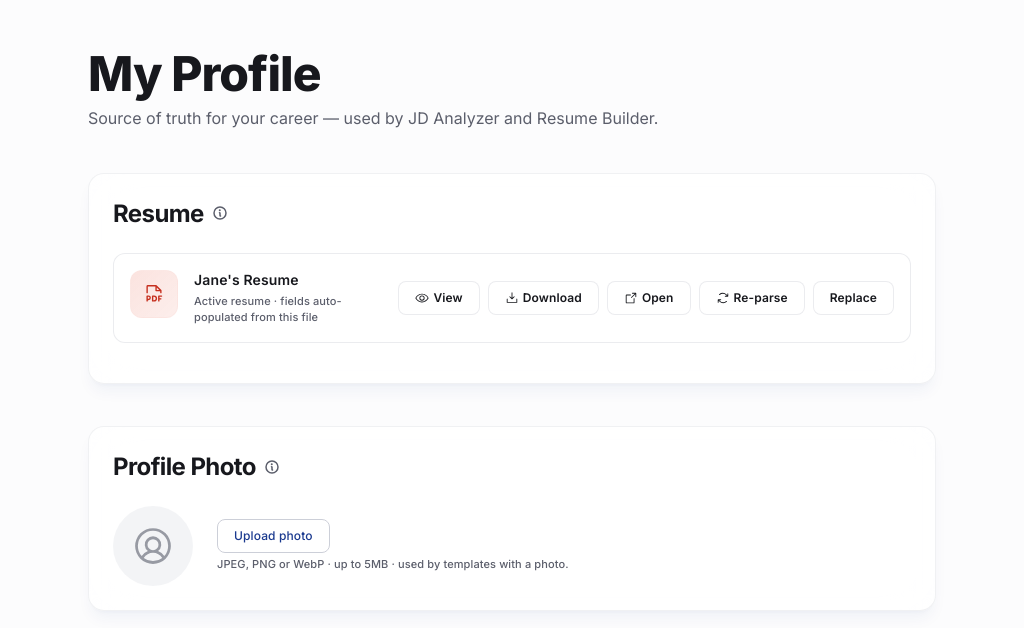
Test: My Profile — resume re-parse & unsaved-changes guard › offers the résumé's different contact details instead of applying them, never the email
Click the button "Re-parse". click: (752, 298)
box: [698,281,805,315]
(page scrolled)
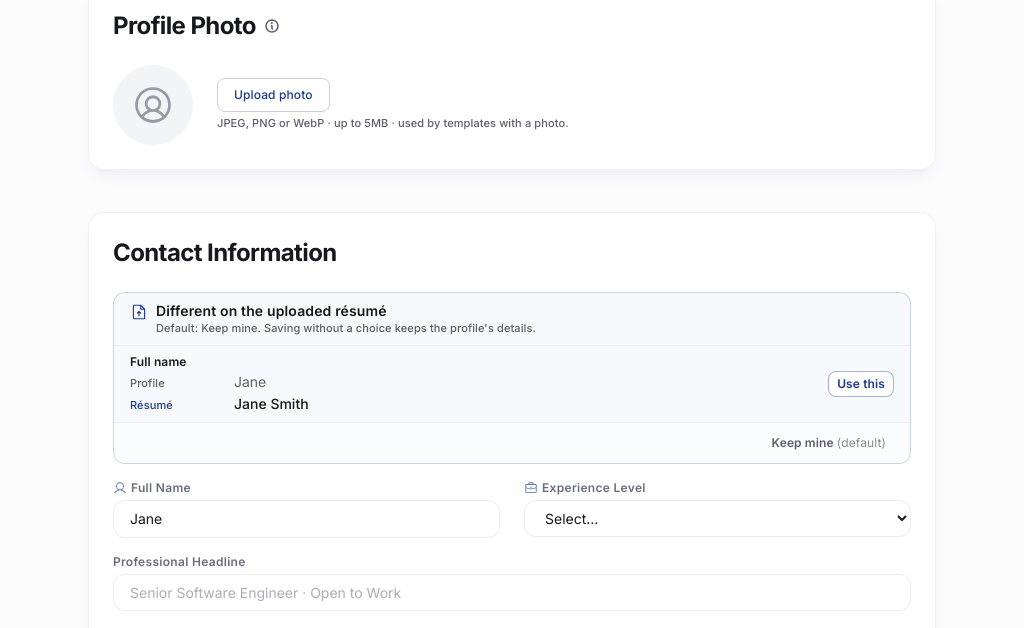
expect the element named "Details from the uploaded résumé" does not show "98765": met, box [113,292,911,464]
expect the element named "Details from the uploaded résumé" does not show "old@work.com": met, box [113,292,911,464]
Click the button with aria-label "Use Jane Smith as Full name". click: (861, 384)
box: [828,371,894,397]
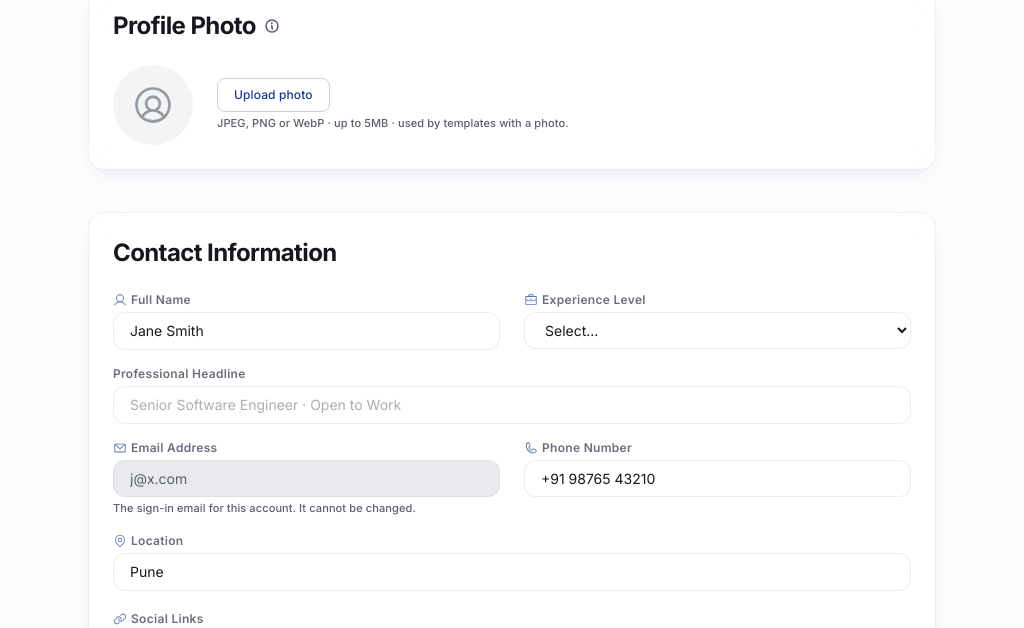
expect the field with placeholder "Jane Smith" holds "Jane Smith": met, box [113,312,500,350]
